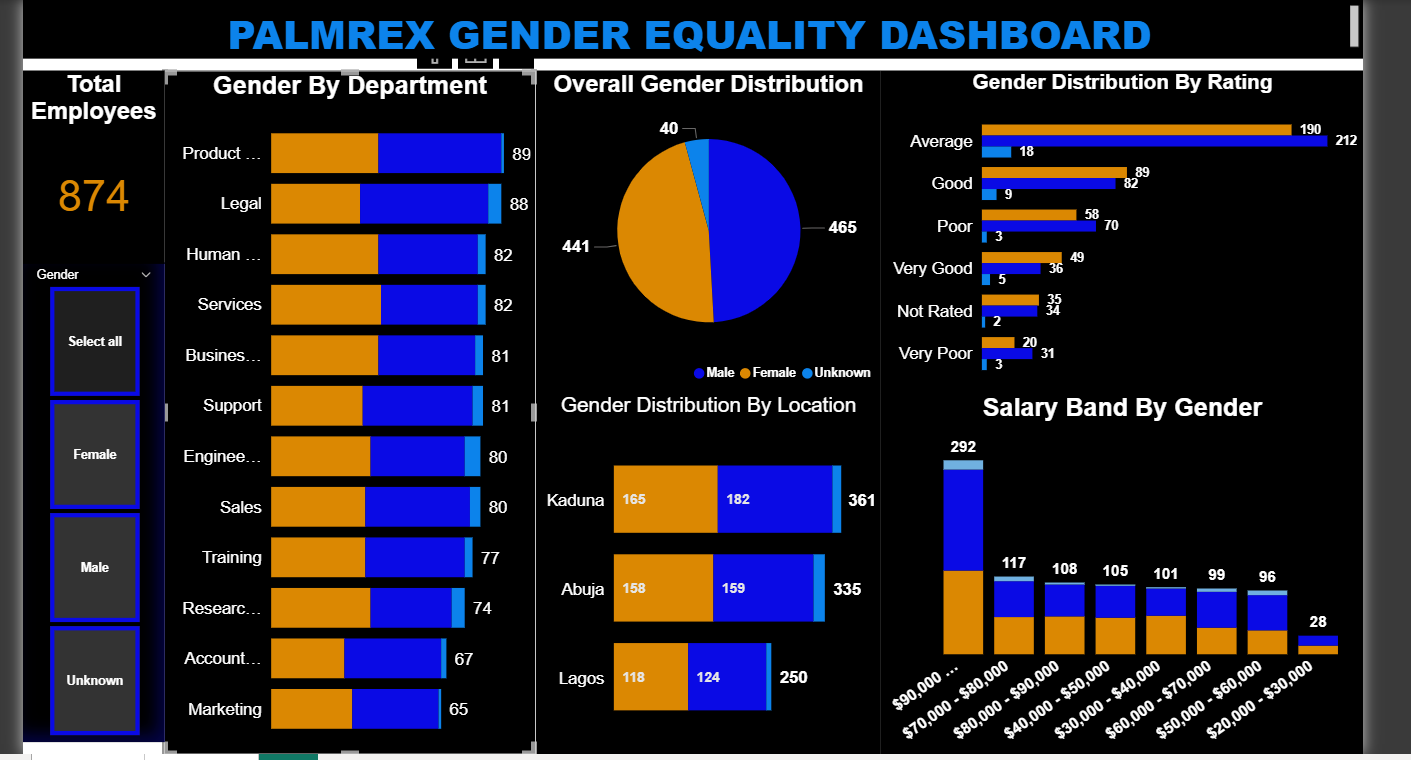

Layout of this report page (visuals, bound fields, positions):
{"tool":"powerbi","page":{"name":"Page 1","canvas":[1280,720],"ordinal":0},"visuals":[{"type":"pieChart","title":"Overall Gender Distribution","fields":{"Category":["Palmoria Group emp-data (1).Gender"],"Y":["CountNonNull(Palmoria Group emp-data (1).Name)"]},"box":[489.9,67.3,329.4,308],"z":0},{"type":"barChart","title":"Gender Distribution By Location","fields":{"Category":["Palmoria Group emp-data (1).Location"],"Series":["Palmoria Group emp-data (1).Gender"],"Y":["CountNonNull(Palmoria Group emp-data (1).Name)"]},"box":[489.9,375.3,329.4,345.2],"z":1000},{"type":"barChart","title":"Gender By Department","fields":{"Category":["Palmoria Group emp-data (1).Department"],"Series":["Palmoria Group emp-data (1).Gender"],"Y":["CountNonNull(Palmoria Group emp-data (1).Name)"]},"box":[134.6,67.3,355.2,653.2],"z":2000},{"type":"clusteredBarChart","title":"Gender Distribution By Rating","fields":{"Category":["Palmoria Group emp-data (1).Rating"],"Y":["CountNonNull(Palmoria Group emp-data (1).Name)"],"Series":["Palmoria Group emp-data (1).Gender"]},"box":[819.3,67.3,461.2,308],"z":3000},{"type":"columnChart","title":"Salary Band By Gender","fields":{"Category":["Palmoria Group emp-data (1).Salary Band"],"Series":["Palmoria Group emp-data (1).Gender"],"Y":["CountNonNull(Palmoria Group emp-data (1).Name)"]},"box":[819.2,375.4,461.3,345.2],"z":4000},{"type":"slicer","fields":{"Values":["Palmoria Group emp-data (1).Gender"]},"box":[0,251.3,135.2,458.1],"z":5000},{"type":"card","title":"Total Employees","fields":{"Values":["Count(Palmoria Group emp-data (1).Name)"]},"box":[0,66.8,135.2,184.5],"z":6000},{"type":"textbox","box":[0,0,1280.4,55.7],"z":7000}]}

Visuals, with their boxes on the page's 1280x720 design canvas (x1, y1, x2, y2). These are canvas units, not pixel positions in the 1411x760 screenshot, which may show the page scaled, cropped or inside an application window:
"Overall Gender Distribution" pieChart: [490, 67, 819, 375]
"Gender Distribution By Location" barChart: [490, 375, 819, 720]
"Gender By Department" barChart: [135, 67, 490, 720]
"Gender Distribution By Rating" clusteredBarChart: [819, 67, 1280, 375]
"Salary Band By Gender" columnChart: [819, 375, 1280, 721]
slicer - Palmoria Group emp-data (1).Gender: [0, 251, 135, 709]
"Total Employees" card: [0, 67, 135, 251]
textbox: [0, 0, 1280, 56]
